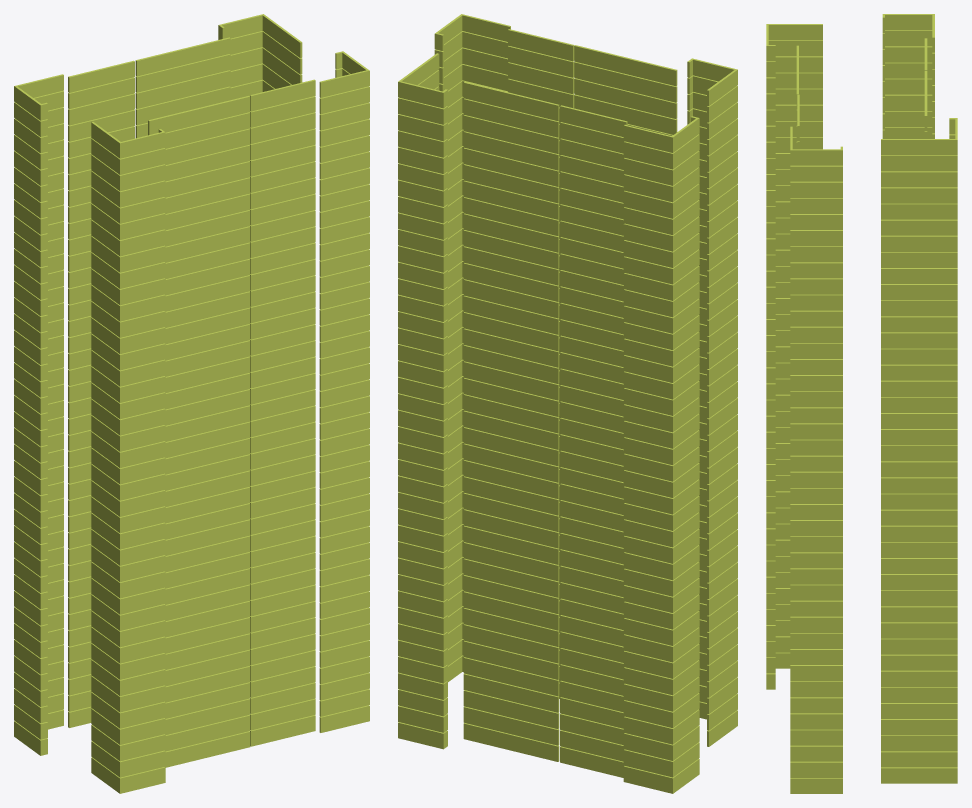
Rendered from wasl.glb.
3 renders of one model, left to right at view 1: azimuth 30°, elevation 25°; view 2: azimuth 150°, elevation 25°; view 3: azimuth 270°, elevation 25°, orthographic.
Visible parts, largest first — view 1: Rectangle002 (×40), Rectangle007 (×40), Rectangle001 (×40), Rectangle004 (×40), Rectangle010 (×40), Rectangle017 (×4), Rectangle009 (×5), Rectangle008 (×4); view 2: Rectangle017 (×40), Rectangle010 (×40), Rectangle009 (×40), Rectangle008 (×40), Rectangle007 (×40), Rectangle002 (×4), Rectangle004 (×4), Rectangle001 (×4); view 3: Rectangle008 (×40), Rectangle004 (×40), Rectangle007 (×40), Rectangle010 (×8).
Boxes of the visible parts, bbox=[...] form: Rectangle002 (×40): bbox=[148, 96, 250, 767]; Rectangle007 (×40): bbox=[91, 122, 165, 793]; Rectangle001 (×40): bbox=[250, 79, 315, 746]; Rectangle004 (×40): bbox=[319, 51, 369, 732]; Rectangle010 (×40): bbox=[14, 74, 63, 755]; Rectangle017 (×4): bbox=[135, 37, 230, 125]; Rectangle009 (×5): bbox=[68, 60, 134, 157]; Rectangle008 (×4): bbox=[218, 14, 302, 88]; Rectangle017 (×40): bbox=[463, 82, 559, 761]; Rectangle010 (×40): bbox=[623, 116, 699, 793]; Rectangle009 (×40): bbox=[560, 105, 627, 777]; Rectangle008 (×40): bbox=[398, 53, 447, 749]; Rectangle007 (×40): bbox=[687, 58, 737, 746]; Rectangle002 (×4): bbox=[574, 45, 677, 134]; Rectangle004 (×4): bbox=[434, 14, 510, 91]; Rectangle001 (×4): bbox=[508, 29, 574, 108]; Rectangle008 (×40): bbox=[881, 118, 957, 783]; Rectangle004 (×40): bbox=[790, 126, 842, 793]; Rectangle007 (×40): bbox=[766, 24, 822, 689]; Rectangle010 (×8): bbox=[882, 14, 934, 138].
Bounding box in the file's own units: 66.93 × 147 × 39.67.
